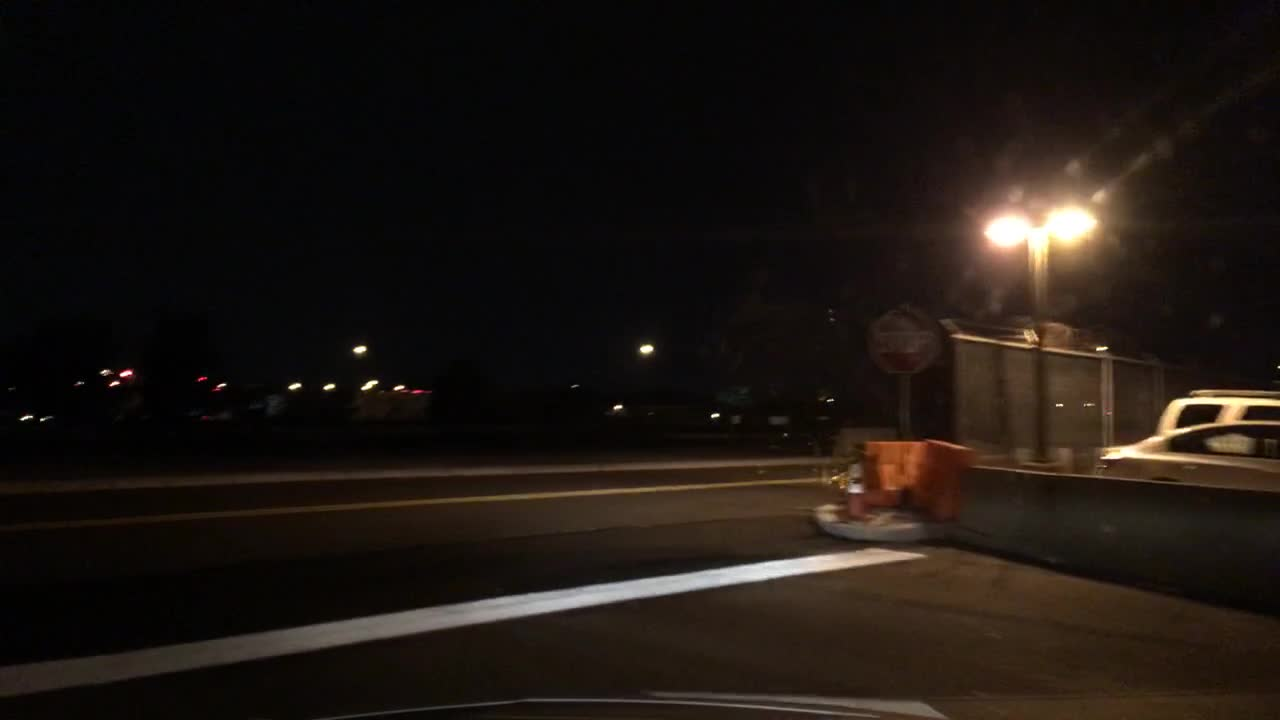car: (1096, 423, 1274, 494), (1154, 386, 1279, 442), (26, 391, 141, 435), (185, 379, 286, 424)
traffic sign: (867, 307, 942, 373), (712, 384, 752, 410)
truck: (332, 391, 427, 428)
